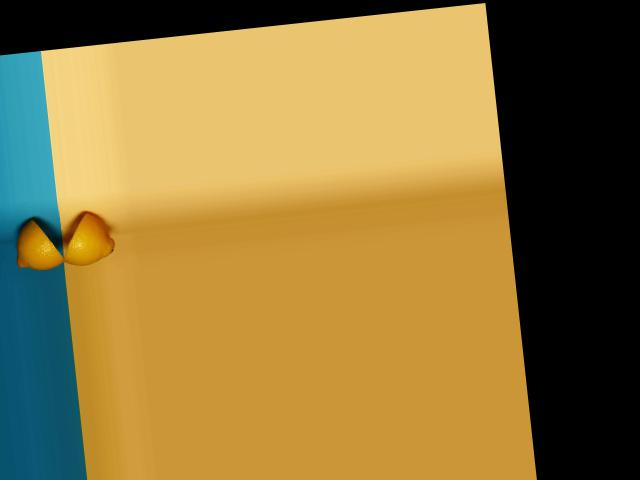lemon: (5, 211, 67, 276)
